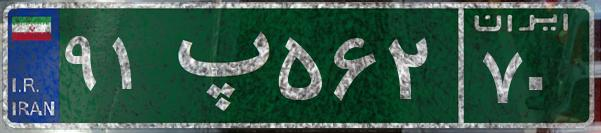0: (525, 38, 570, 115)
1: (110, 28, 158, 105)
2: (385, 28, 445, 110)
5: (273, 28, 330, 110)
6: (330, 28, 385, 110)
7: (475, 38, 525, 113)
9: (57, 26, 110, 107)
پ: (158, 15, 273, 115)
